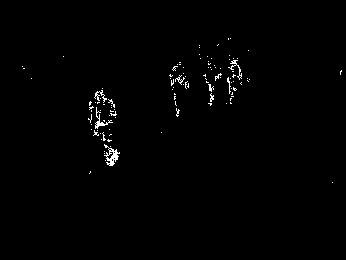person: (88, 90, 120, 168), (168, 61, 190, 117), (201, 59, 222, 107), (227, 57, 243, 106)
